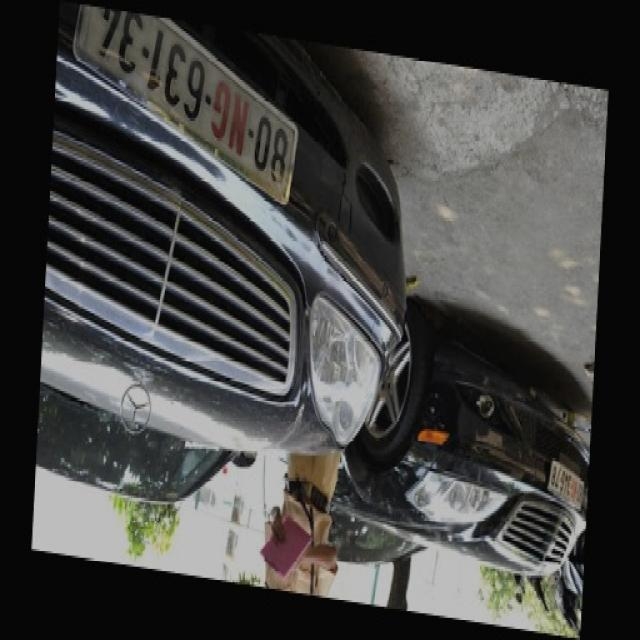bien_ngoai_giao: (70, 0, 300, 212), (547, 456, 587, 516)
